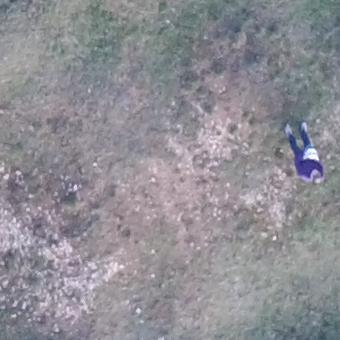human: (280, 119, 326, 183)
